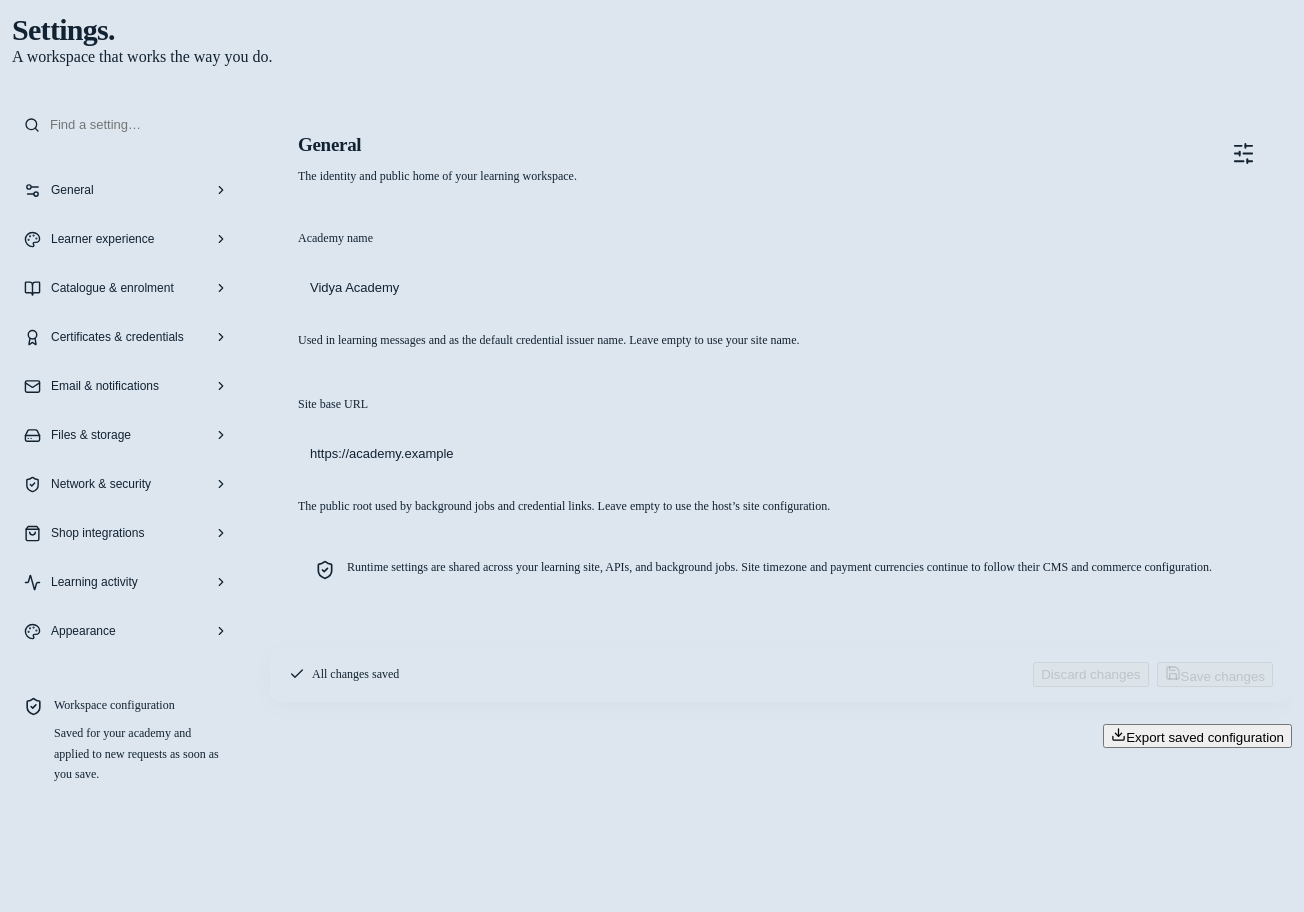
Test case: Settings workspace › directs shop setup to the host and distinguishes registration from connection health
Expected: the field labelled "Academy name" is shown, [298, 256, 1288, 320]
What coordinates should you click on to do the following:
click the button "Shop integrations"
I would click on:
 (126, 533)
Its box is [12, 511, 240, 555].
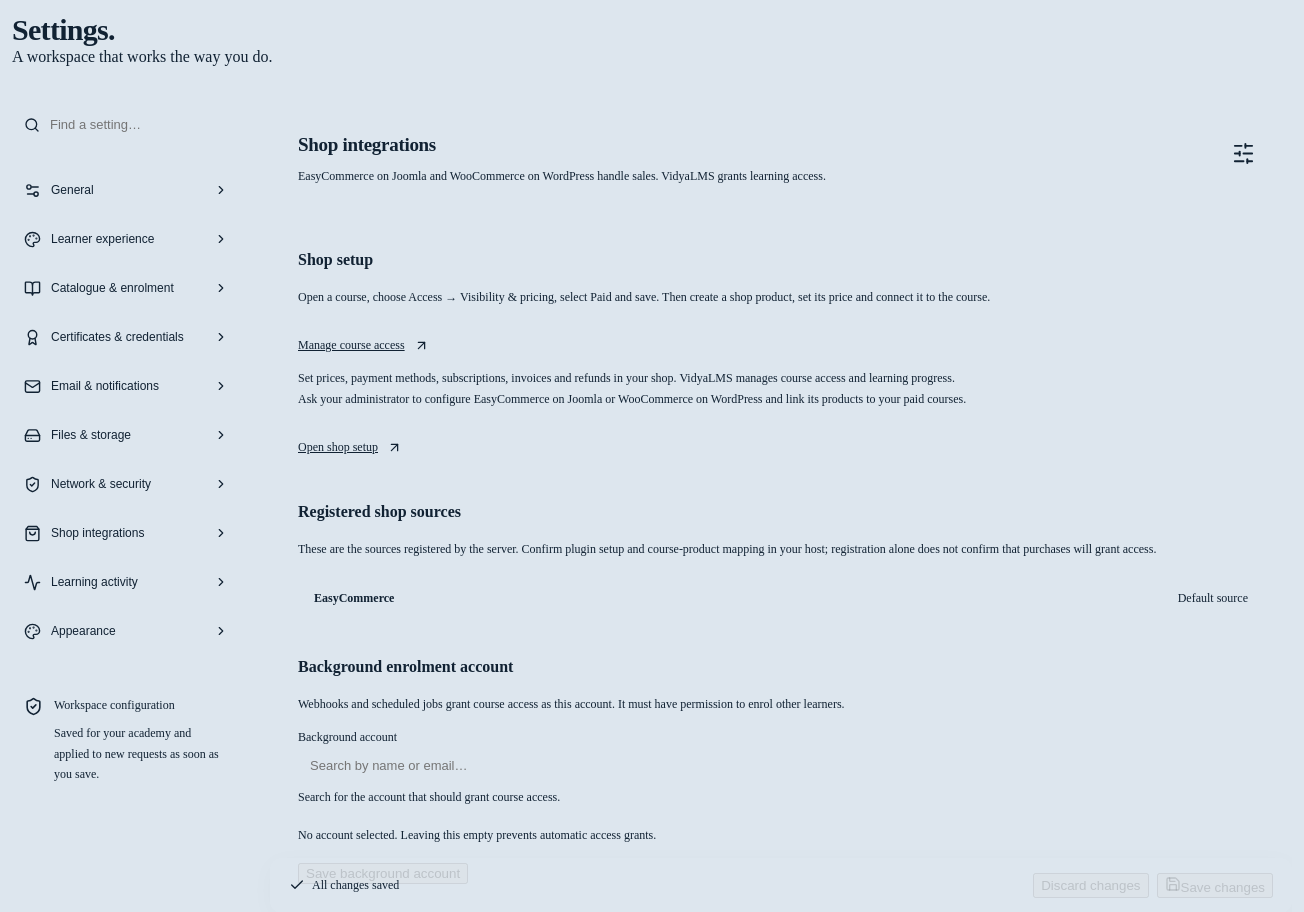
Now the heading "Shop setup" is shown, box [298, 251, 373, 268]
Now the text "Open a course, choose Access → Visibility & pricing" is shown, box [298, 290, 990, 304]
Now the text "EasyCommerce" is shown, box [314, 591, 394, 606]
